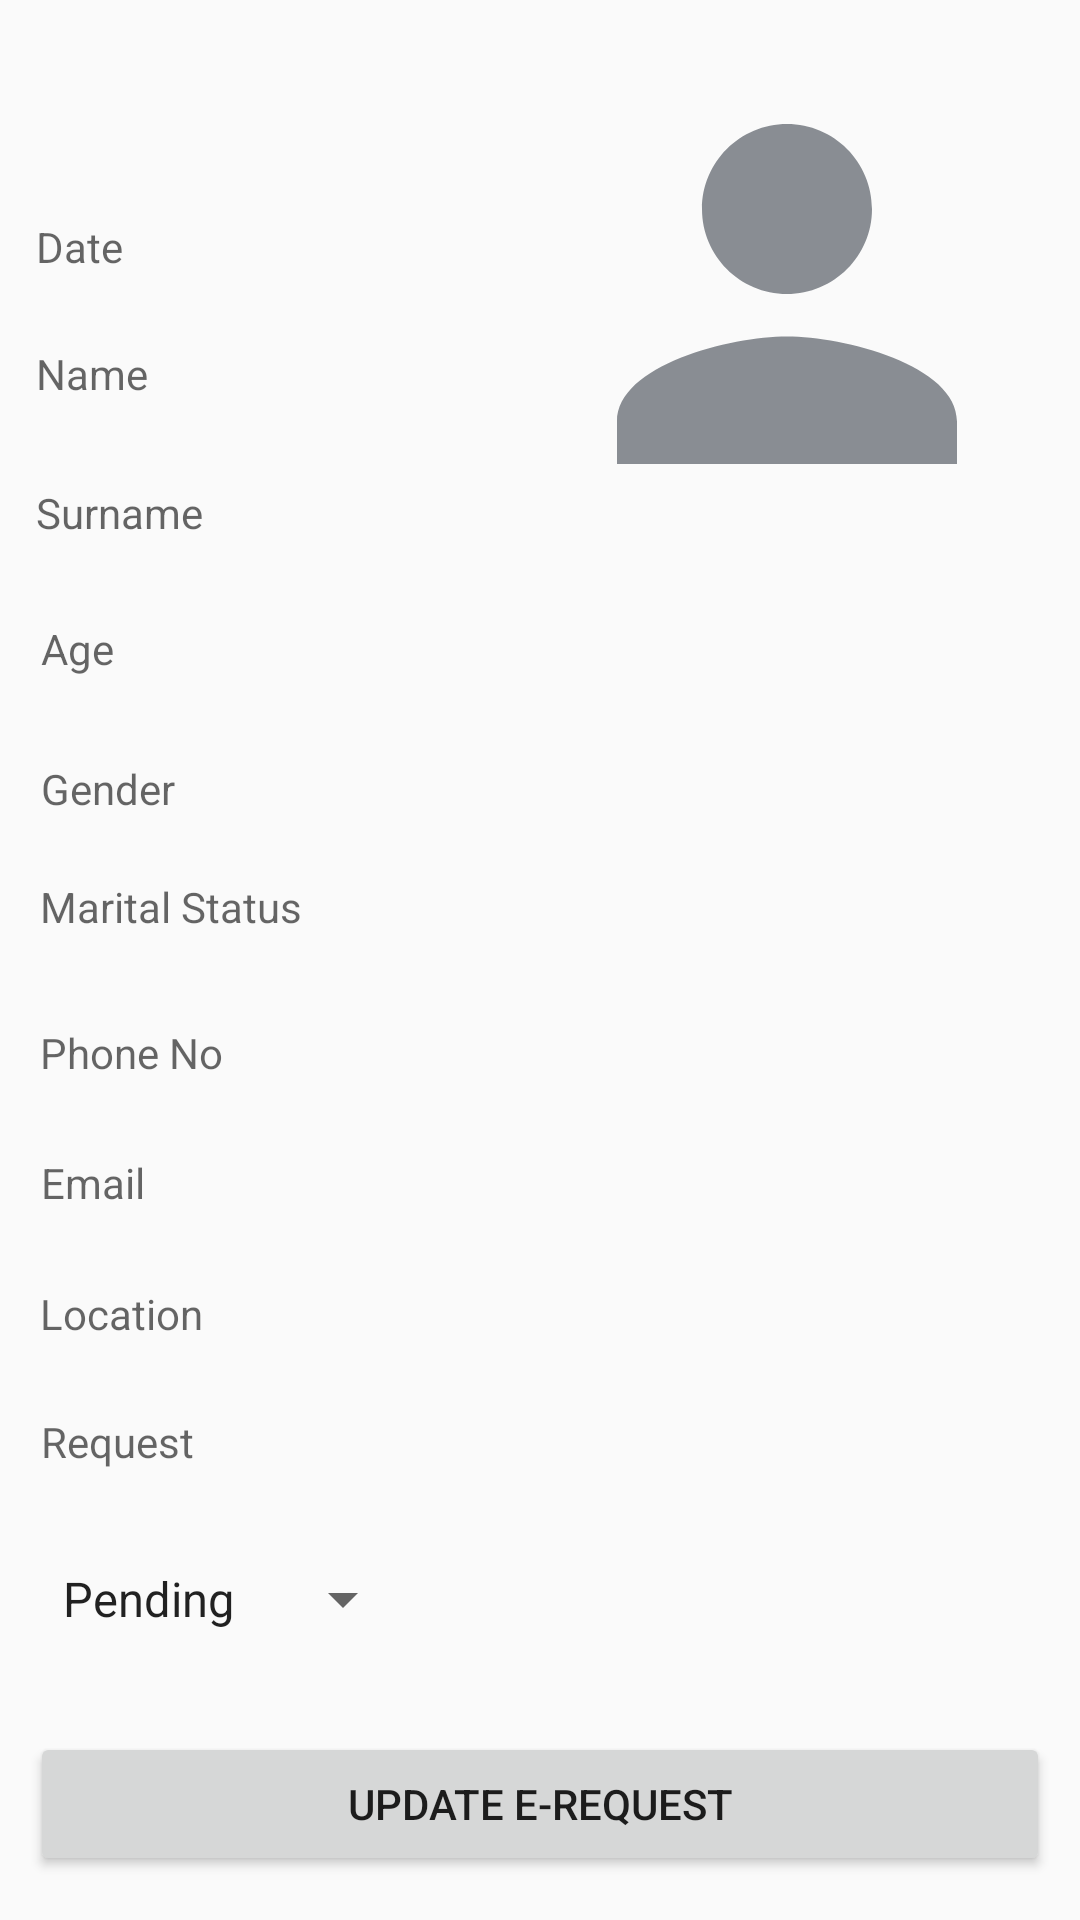

Where to tap for icons on this 1080w x 1920h app screen, as point (x, y):
person: point (787, 294)
